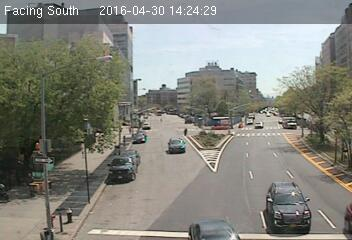neg: (311, 126, 329, 149), (323, 90, 340, 113), (62, 203, 78, 225), (280, 113, 296, 134), (32, 33, 47, 53), (135, 105, 149, 124), (335, 146, 348, 164), (37, 178, 50, 195), (281, 54, 293, 70), (340, 36, 351, 52), (219, 56, 230, 70), (123, 32, 134, 46), (243, 115, 251, 126), (186, 112, 193, 121), (183, 127, 190, 136), (161, 111, 167, 120)
